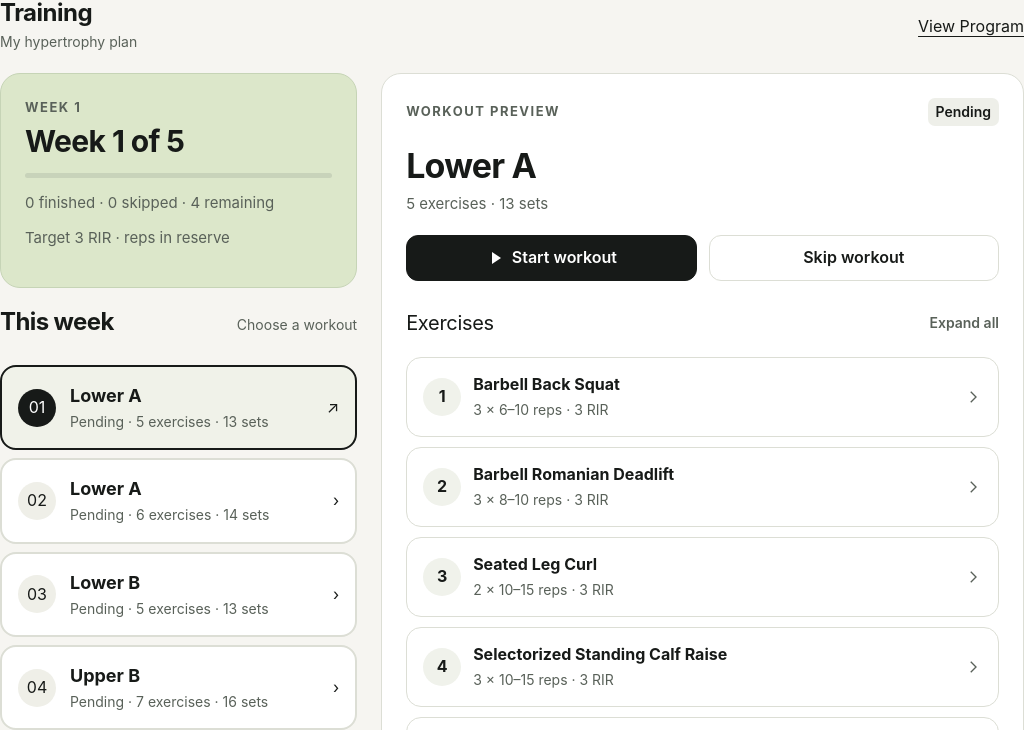
Test: Workout start consumer › selects a later same-name workout without writing and starts its exact UUID
The width and height of the screenshot is (1024, 730).
Expected: the button "Start workout" is enabled, x1=406 y1=234 x2=696 y2=280
Click the button "02 Lower A Pending · 6 exercises · 14 sets ›".
click(37, 501)  # box x1=0 y1=458 x2=357 y2=544
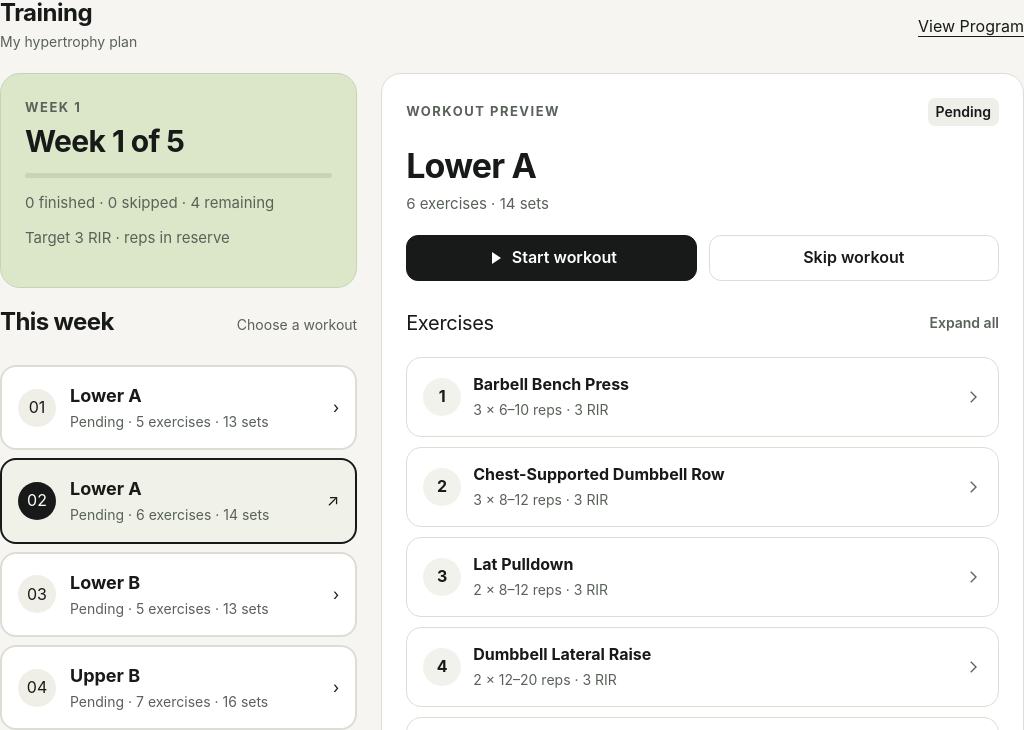
Now the button "02 Lower A Pending · 6 exercises · 14 sets ↗" is pressed, box x1=0 y1=458 x2=357 y2=544
Click the button "Start workout".
click(551, 258)  # box x1=406 y1=234 x2=696 y2=280
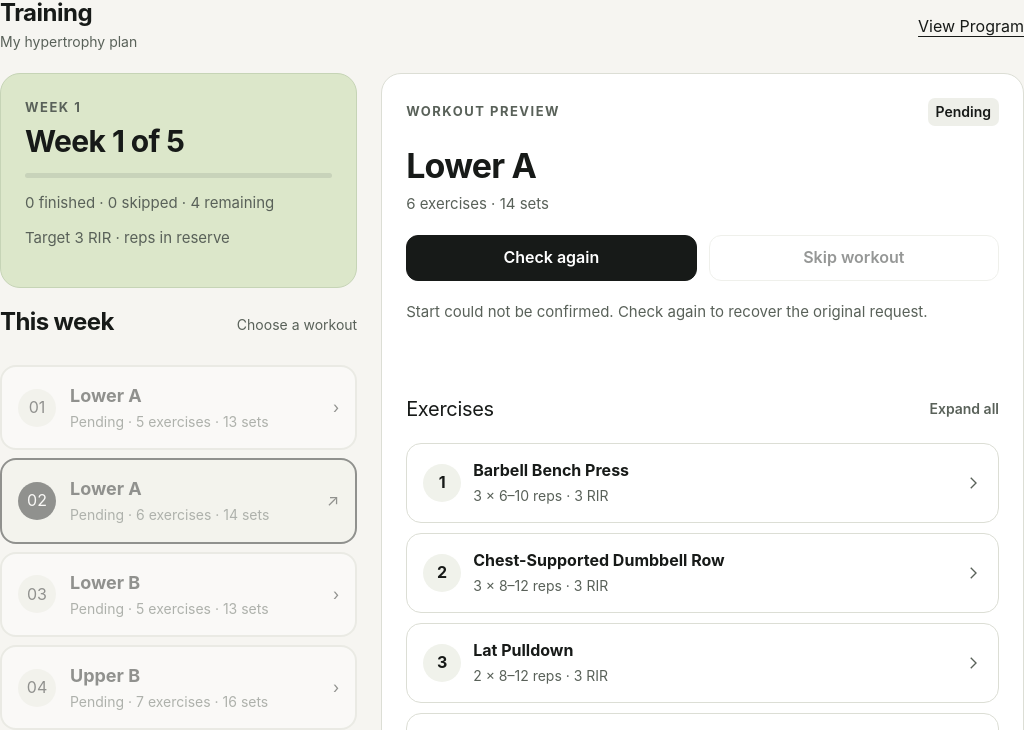
Now the button "Check again" is shown, box x1=406 y1=234 x2=696 y2=280
